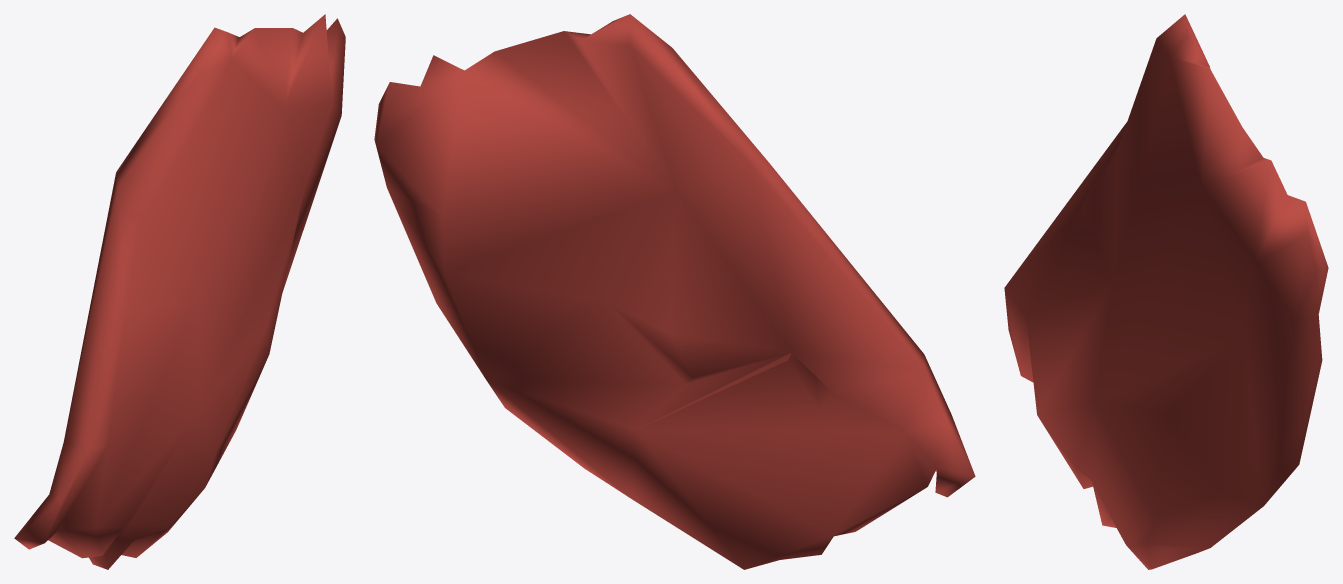
The model's file is musculos-mentalis-muscle-l.glb.
3 views of the same model, side by side, from view 1: azimuth 30°, elevation 25°; view 2: azimuth 150°, elevation 25°; view 3: azimuth 270°, elevation 25° (orthographic). The views are drawn at different scales.
Parts seen in each view (by area): view 1: Mentalis muscle.l; view 2: Mentalis muscle.l; view 3: Mentalis muscle.l.
Part boxes in pixels (<box>): Mentalis muscle.l: <box>14,14,345,569</box>; Mentalis muscle.l: <box>374,14,975,569</box>; Mentalis muscle.l: <box>1004,14,1328,569</box>.
Size of the model in its own units: 0.0137 by 0.0148 by 0.00708.
